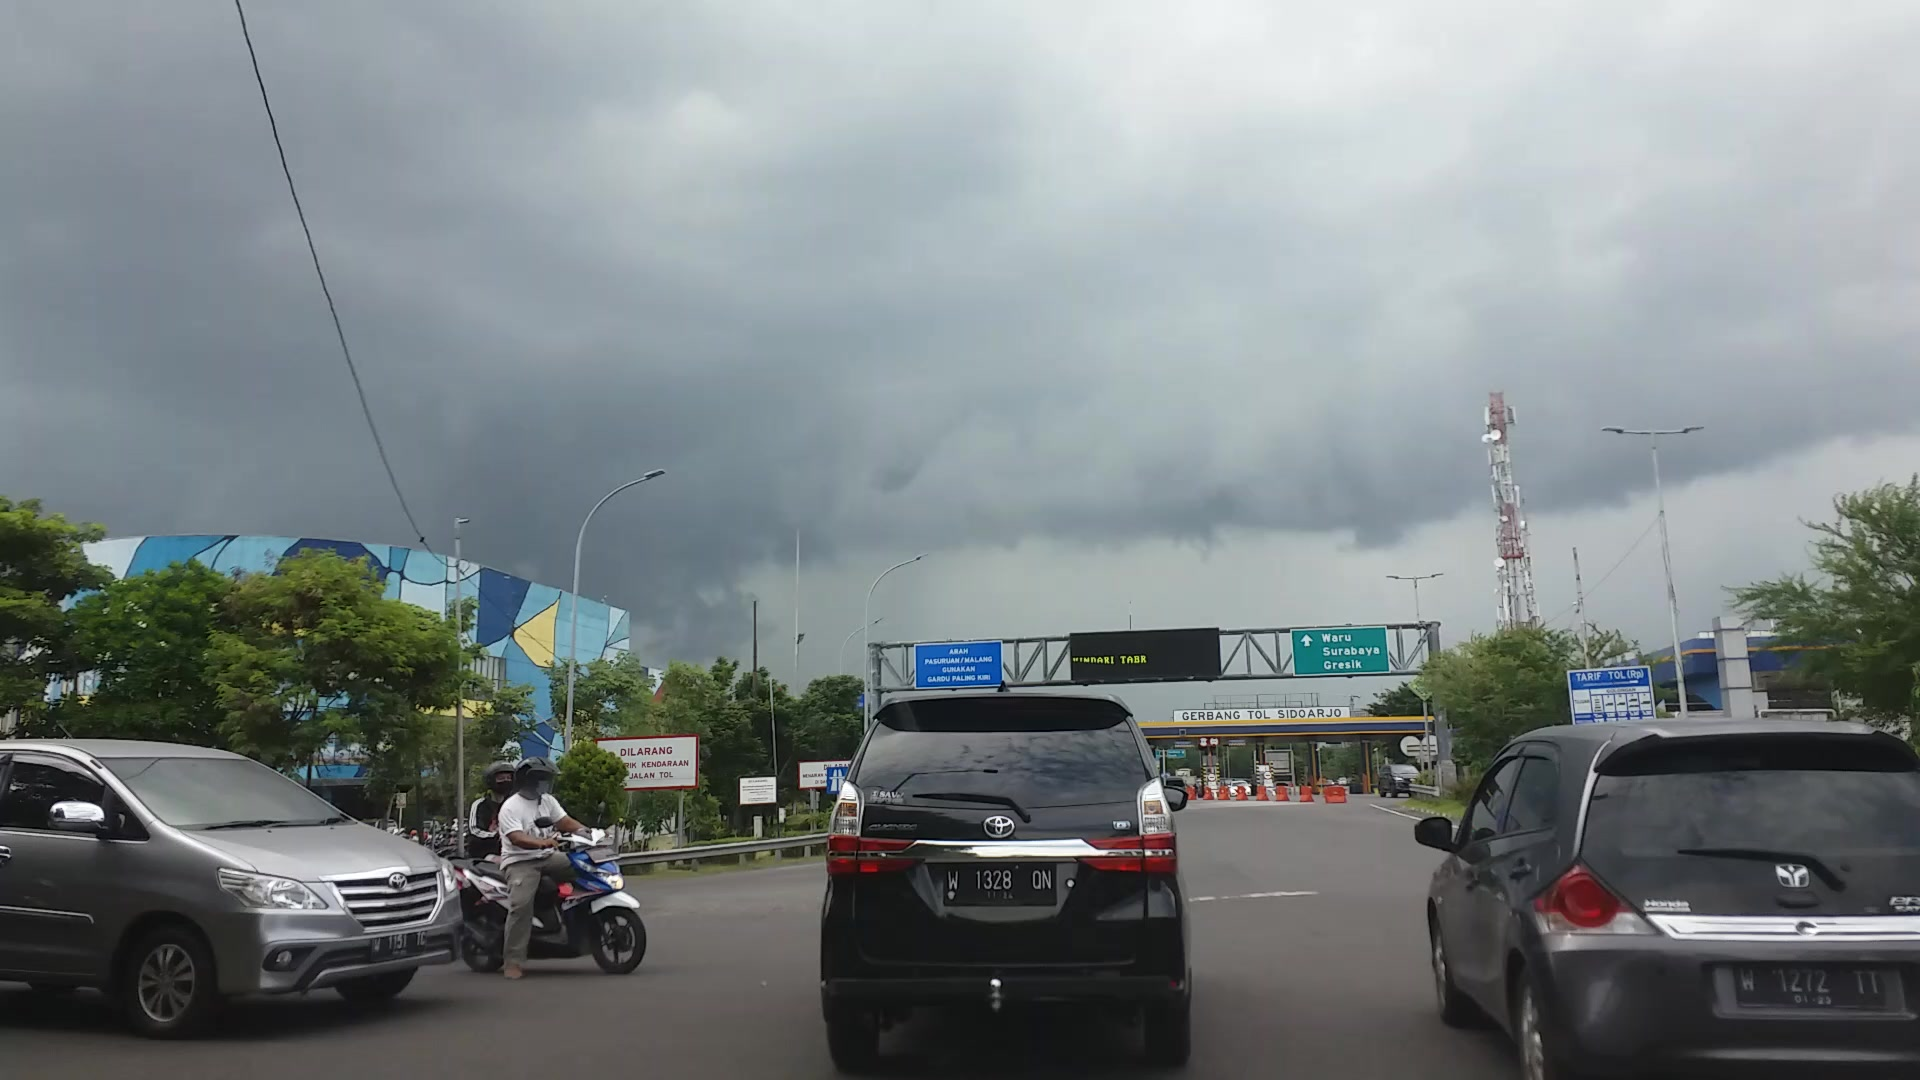plate_positive: (1731, 963, 1887, 1009), (943, 862, 1058, 906)
